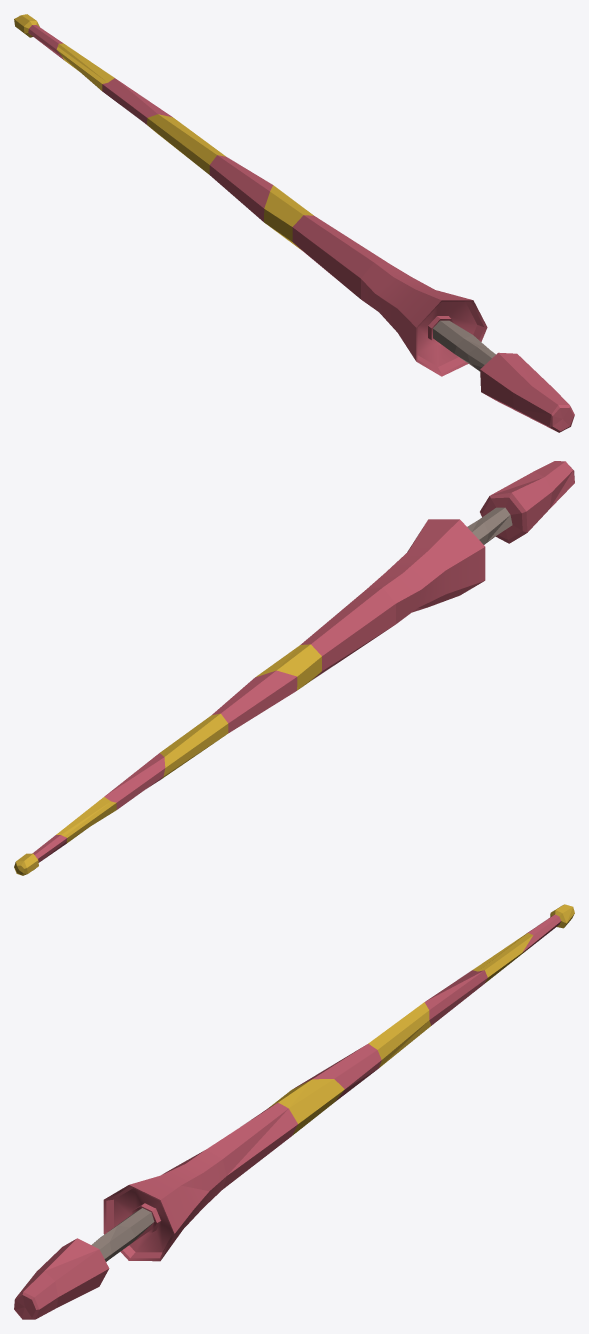
File: lance.fbx
3 views of the same model, one above another, from view 1: azimuth 30°, elevation 25°; view 2: azimuth 150°, elevation 25°; view 3: azimuth 330°, elevation 25° (orthographic).
Parts seen in each view (by area): view 1: lance1; view 2: lance1; view 3: lance1.
Part boxes in pixels (bbox=[...]): lance1: bbox=[14, 14, 574, 432]; lance1: bbox=[14, 461, 574, 875]; lance1: bbox=[14, 904, 574, 1319].
Size of the model in its own units: 0.293 by 0.3005 by 3.89.
